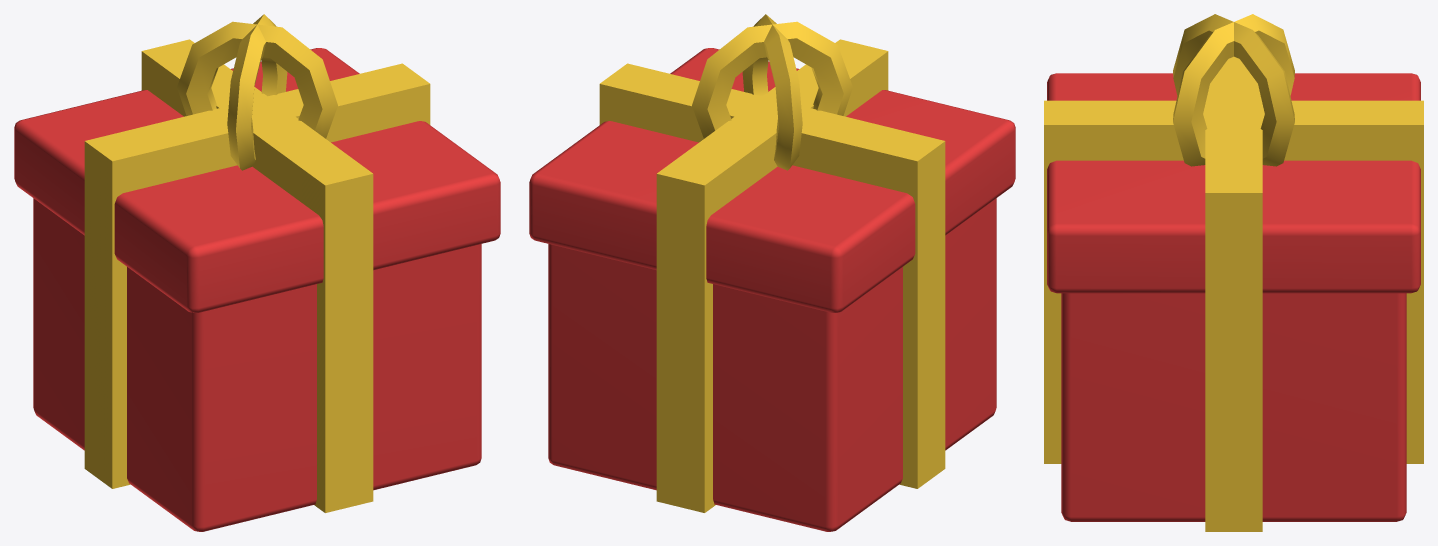
The model's file is GiftBox.fbx.
3 renders of one model, left to right at view 1: azimuth 30°, elevation 25°; view 2: azimuth 150°, elevation 25°; view 3: azimuth 270°, elevation 25°, orthographic. The views are drawn at different scales.
Parts seen in each view (by area): view 1: GiftBox; view 2: GiftBox; view 3: GiftBox.
Boxes of the visible parts, bbox=[...] form: GiftBox: bbox=[14, 14, 500, 531]; GiftBox: bbox=[529, 14, 1015, 531]; GiftBox: bbox=[1044, 14, 1423, 531].
Size of the model in its own units: 1.98 by 2.48 by 1.98.
1 material, 1 textured.
